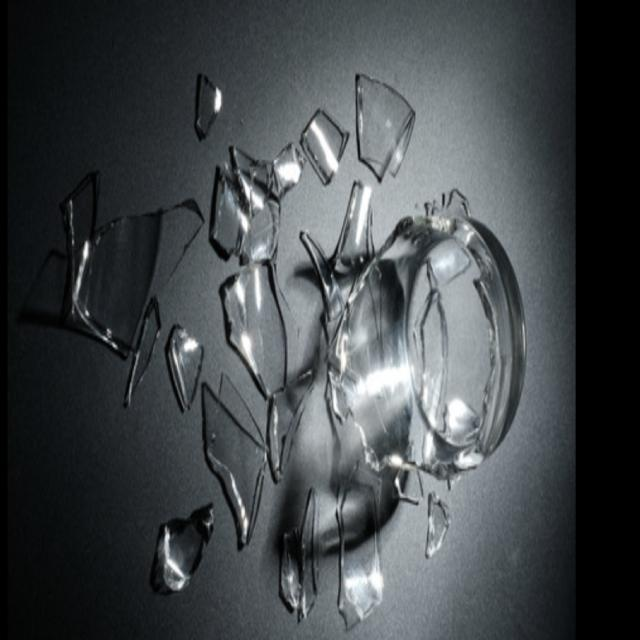PecahanKaca: (22, 65, 529, 630)
